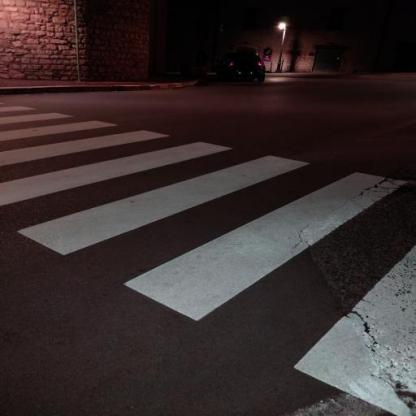crosswalk: (15, 149, 415, 330)
